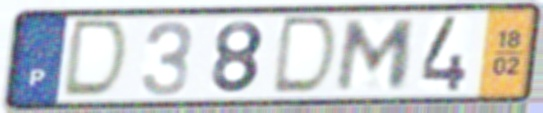3: (139, 19, 195, 98)
4: (419, 14, 469, 94)
8: (208, 19, 266, 96)
D: (267, 14, 342, 99), (58, 17, 133, 102)
M: (331, 17, 420, 94)
